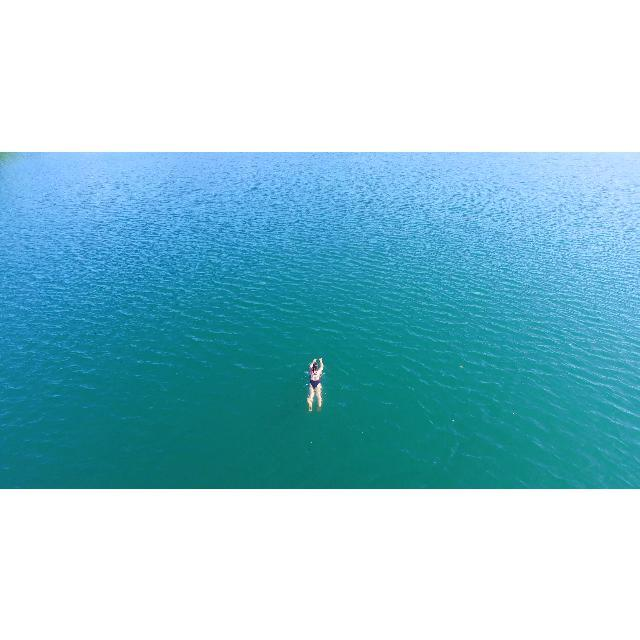human: (306, 355, 327, 413)
